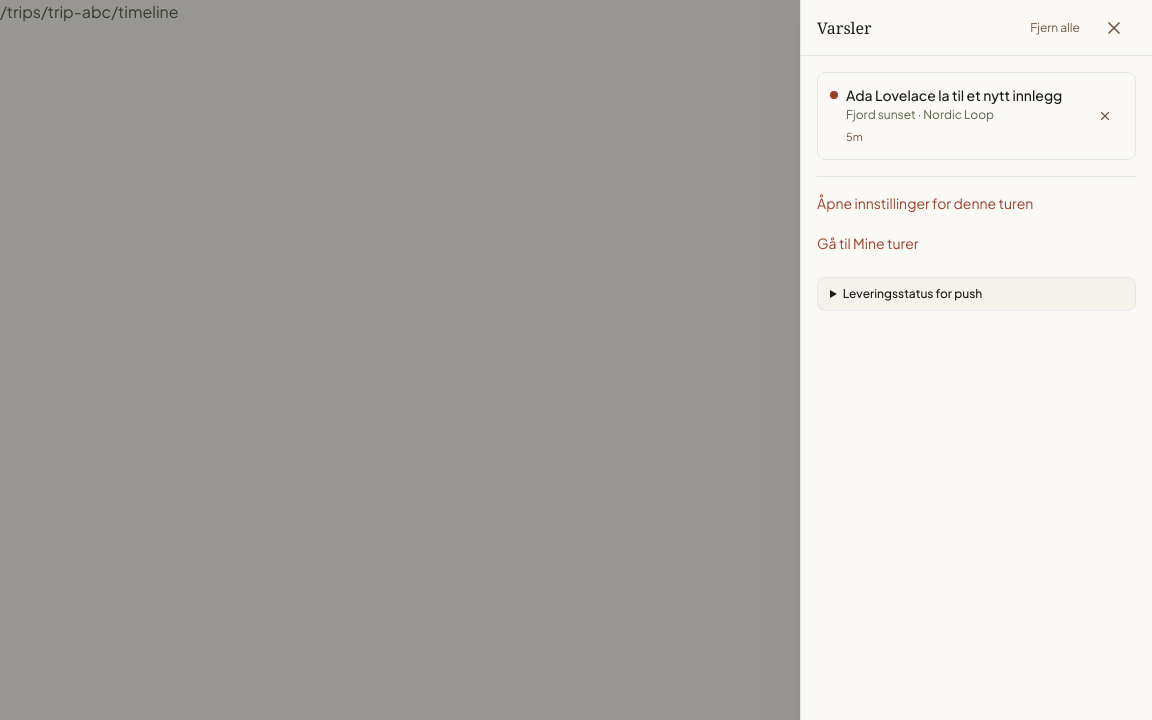
it: Notifications inbox (bell badge + panel) › optimistically removes a notification when the dismiss button is clicked
What coordinates should you click on to do the following:
click the button named "Fjern varsel"
I would click on:
 (1105, 116)
Its box is [1087, 85, 1123, 147].
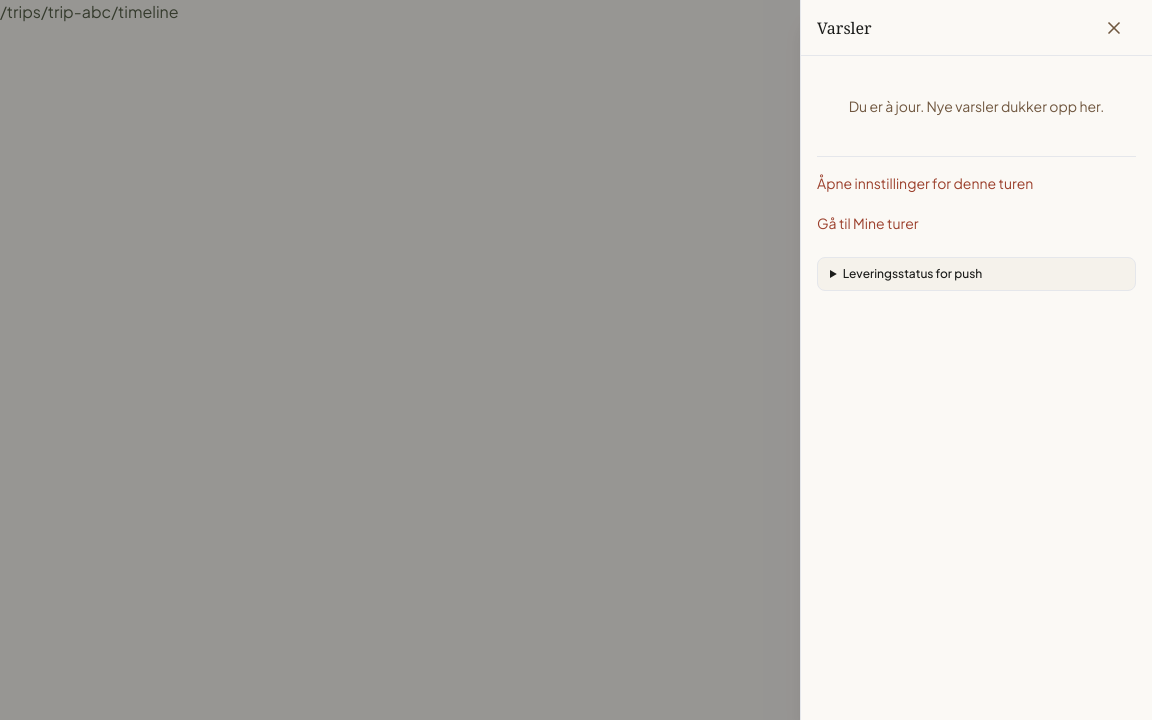
Expected: the list item with test id "notification-item-notif-trip-1" is gone
